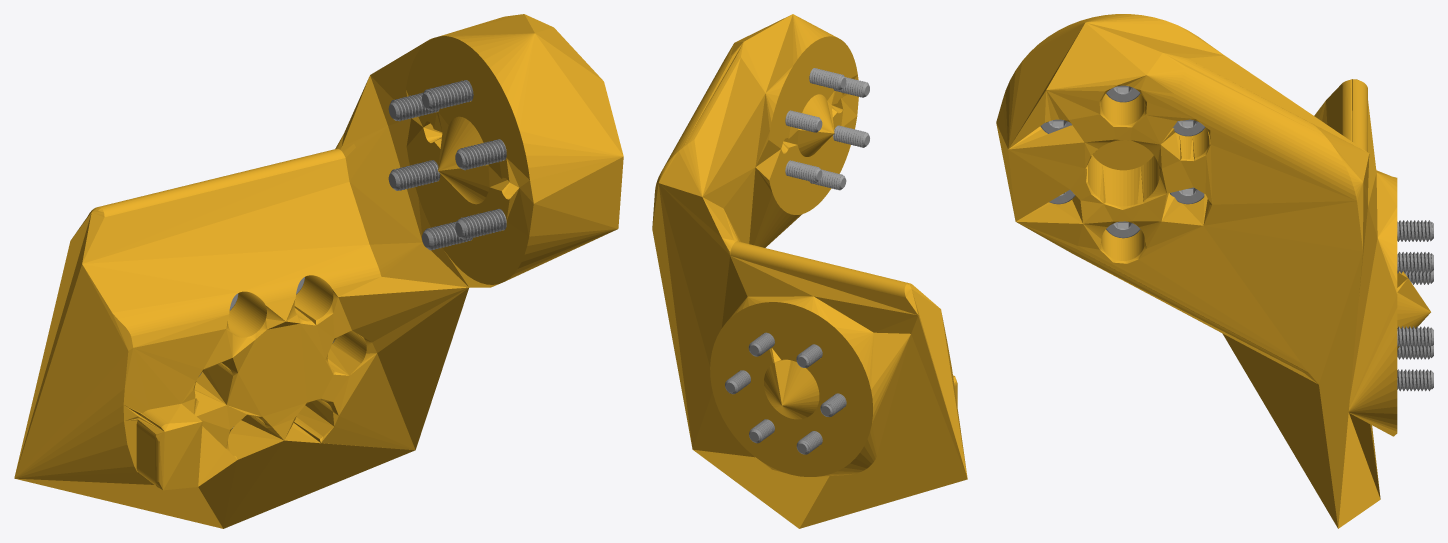
The model's file is full_step_link1-colors.obj.
3 views of the same model, side by side, from view 1: azimuth 30°, elevation 25°; view 2: azimuth 150°, elevation 25°; view 3: azimuth 270°, elevation 25° (orthographic). The views are drawn at different scales.
Size of the model in its own units: 67.47 by 83.55 by 59.9.
